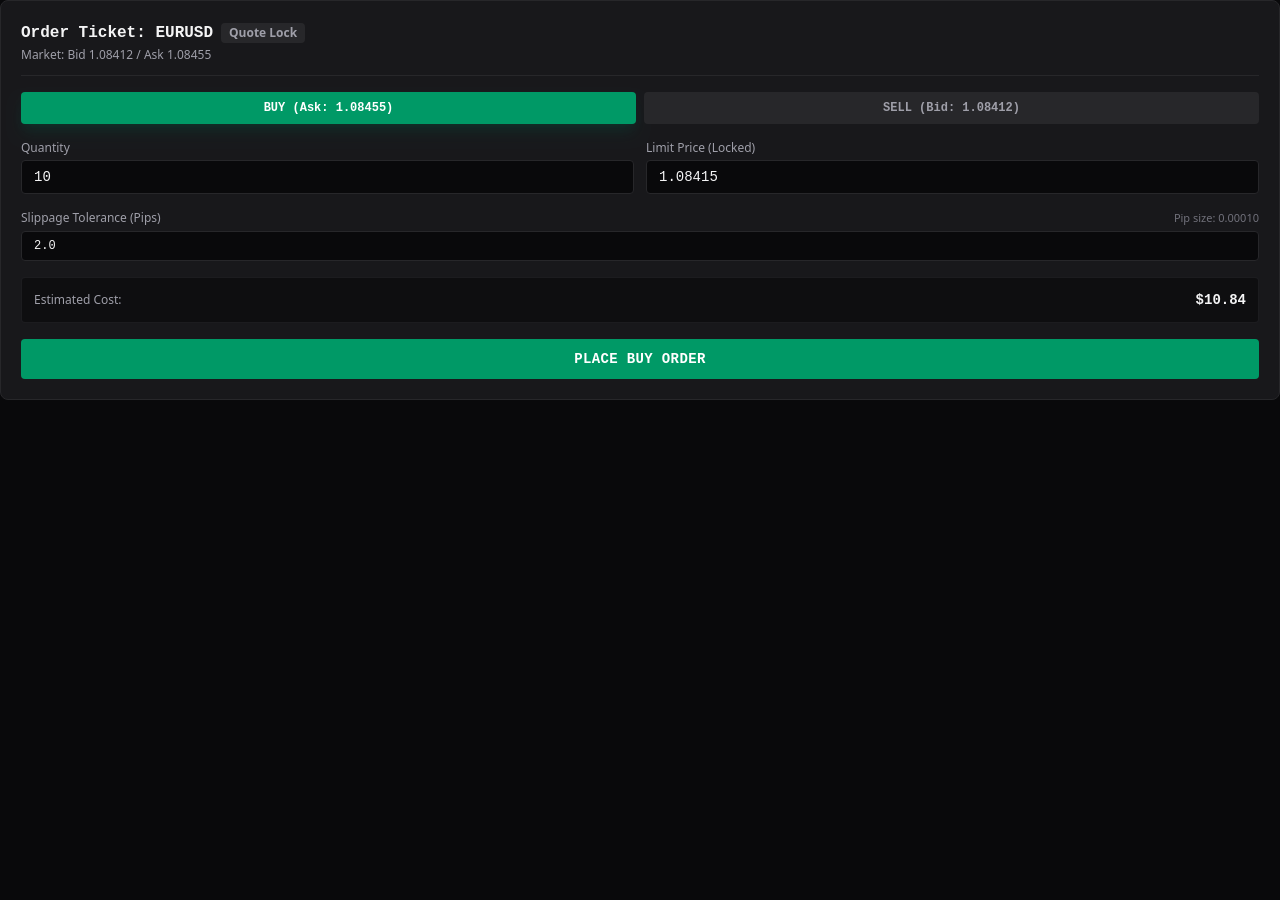
OrderTicket Component › executes at the locked price when the trader accepts the new price
This screenshot has width=1280, height=900.
Click the button "PLACE BUY ORDER" at (640, 358), box [21, 338, 1259, 378]
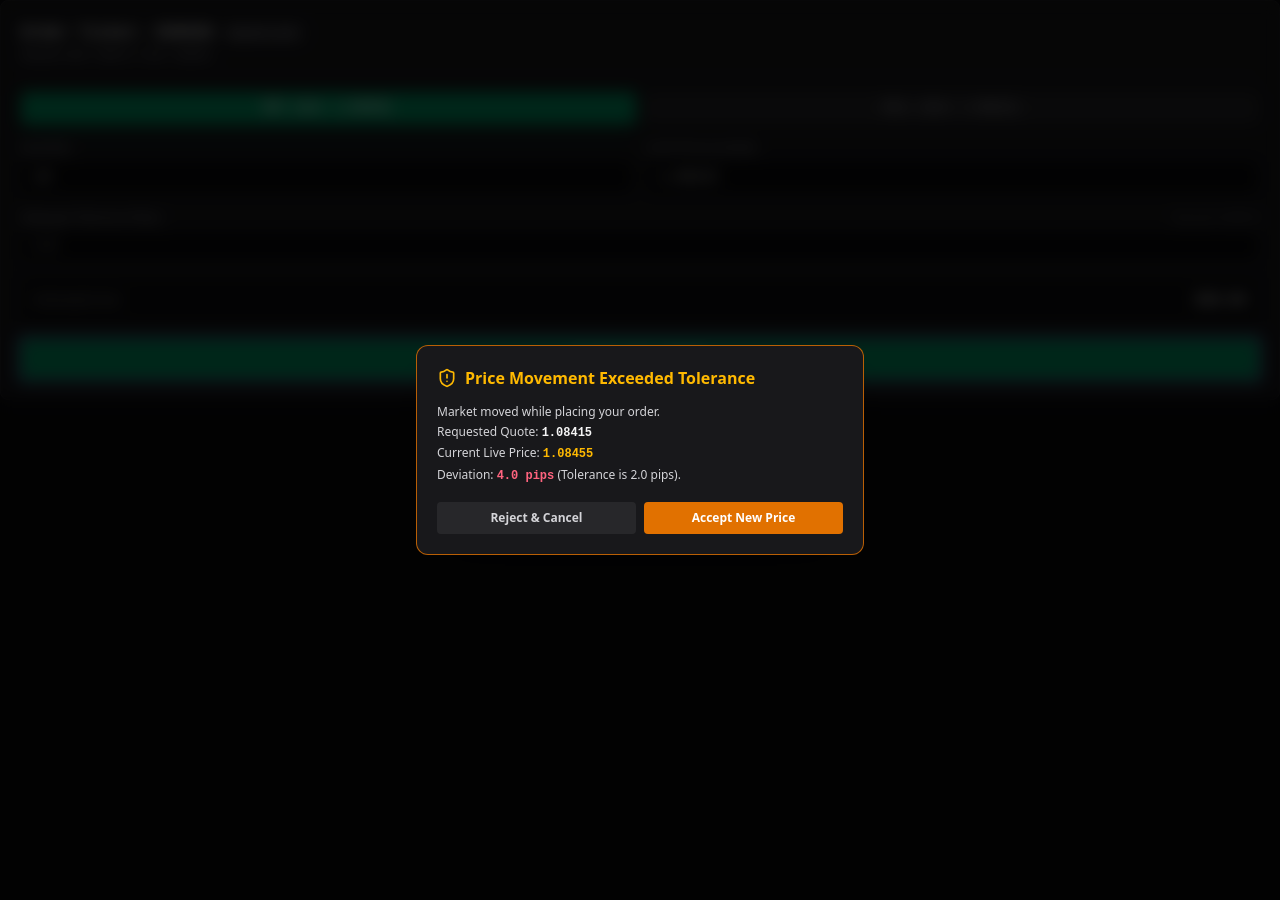
Click the button "Accept New Price" at (744, 518), box [644, 502, 843, 534]
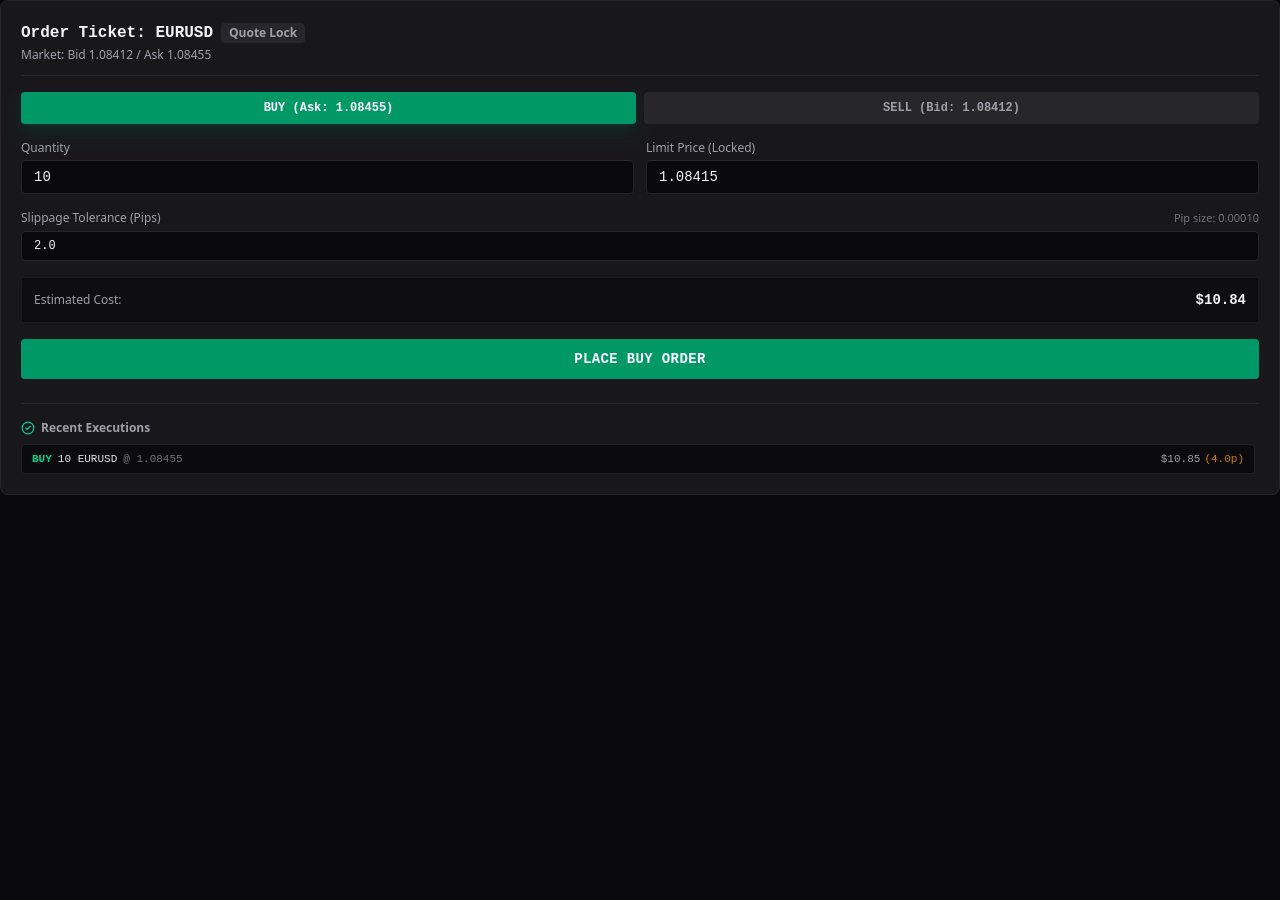
Expected: the text "Price Movement Exceeded Tolerance" is gone
Expected: the heading "Recent Executions" is shown, [21, 418, 150, 436]
Expected: the text "@ 1.08455" is shown, [123, 452, 183, 464]
